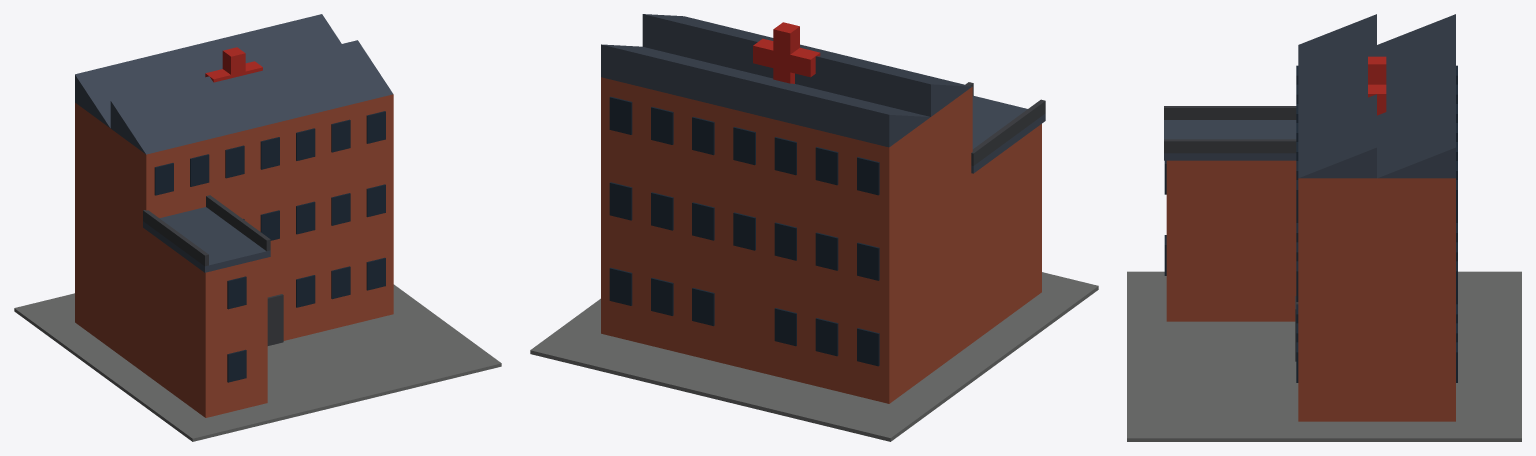
Rendered from bld_special_hospital_a05.glb.
3 views of the same model, side by side, from view 1: azimuth 30°, elevation 25°; view 2: azimuth 150°, elevation 25°; view 3: azimuth 270°, elevation 25° (orthographic). The views are drawn at different scales.
Visible parts, largest first — view 1: body; view 2: body; view 3: body.
Boxes of the visible parts, <box> form: body: <box>14,14,501,441</box>; body: <box>530,14,1098,441</box>; body: <box>1127,14,1521,441</box>.
Size of what is drawn, in the model's own units: 15 by 12.5 by 15.
